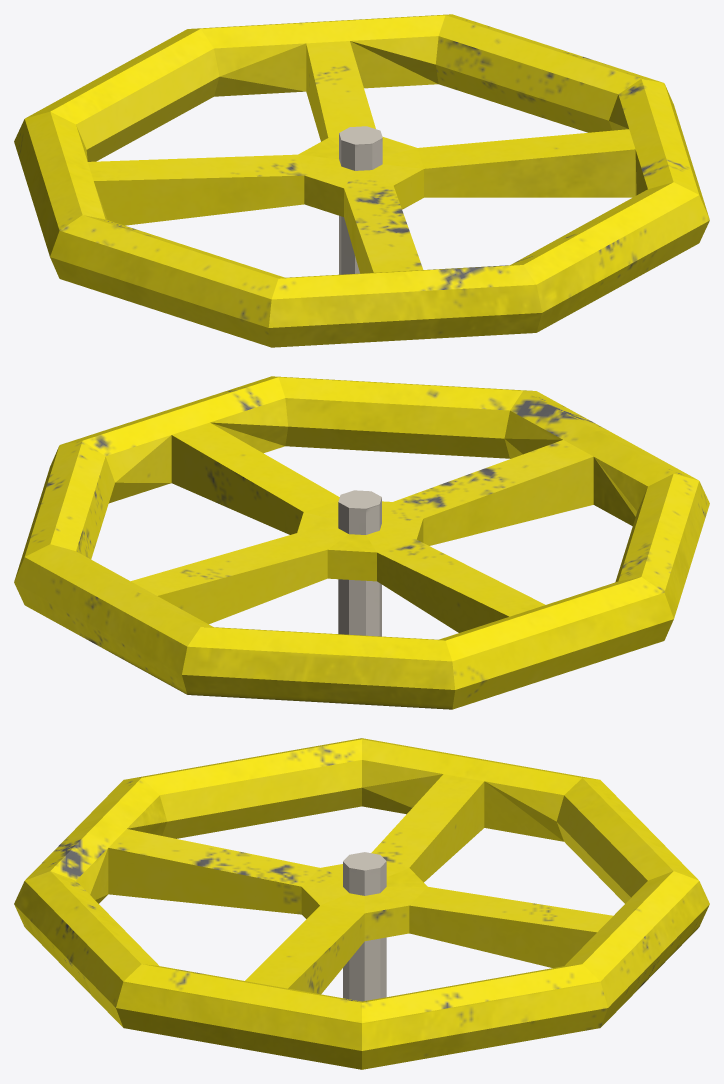
File: pipeValveHandle.fbx
3 views of the same model, one above another, from view 1: azimuth 30°, elevation 25°; view 2: azimuth 150°, elevation 25°; view 3: azimuth 270°, elevation 25° (orthographic). The views are drawn at different scales.
Visible parts, largest first — view 1: PipeValvehandle; view 2: PipeValvehandle; view 3: PipeValvehandle.
Part boxes in pixels (x1=…): PipeValvehandle: x1=14, y1=14, x2=709, y2=347; PipeValvehandle: x1=14, y1=376, x2=709, y2=709; PipeValvehandle: x1=14, y1=738, x2=709, y2=1069.
Bounding box in the file's own units: 0.5893 × 0.1596 × 0.5893.
